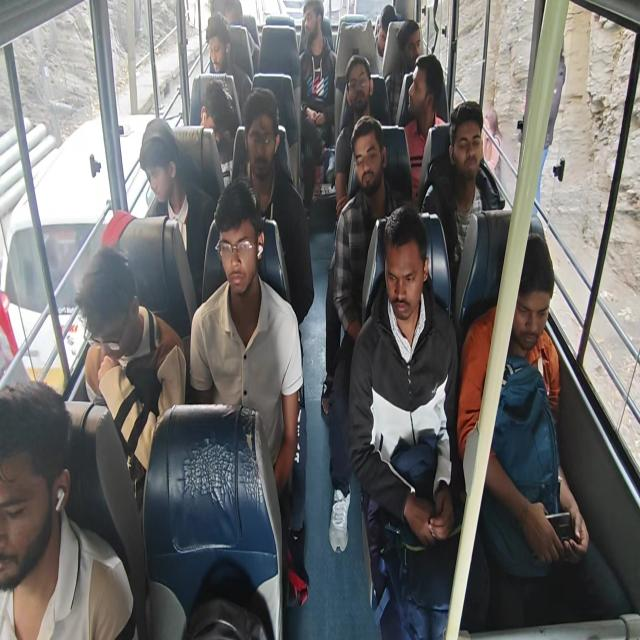person: (347, 204, 489, 638), (457, 231, 590, 628), (189, 177, 309, 605), (321, 115, 407, 553), (0, 379, 137, 639), (74, 244, 187, 511), (234, 86, 314, 326), (420, 99, 505, 310), (138, 117, 210, 303), (298, 0, 336, 205), (334, 53, 374, 219), (402, 54, 447, 200), (204, 12, 252, 118), (384, 19, 422, 124), (199, 80, 237, 168), (222, 0, 260, 74), (374, 4, 397, 74), (482, 106, 502, 178)
